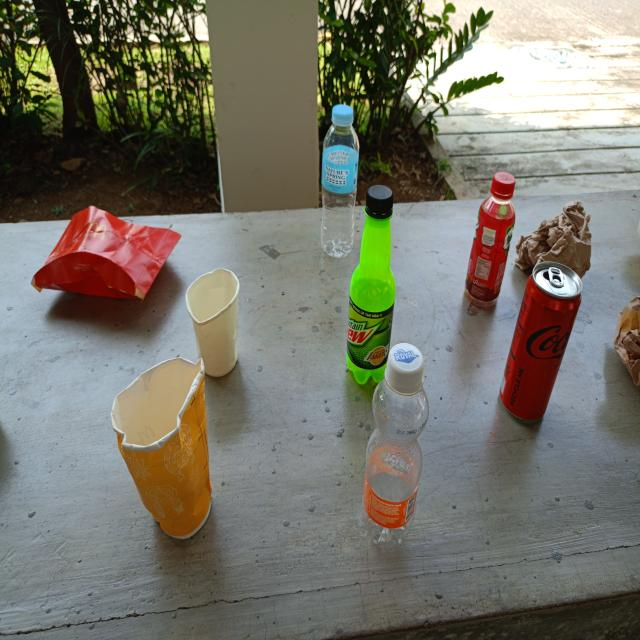Anorganik: (360, 343, 430, 552), (500, 259, 584, 428), (346, 182, 396, 384), (462, 166, 516, 311), (321, 105, 360, 257)
Organik: (104, 355, 216, 548), (28, 202, 180, 309), (515, 197, 595, 285), (183, 265, 240, 379)
